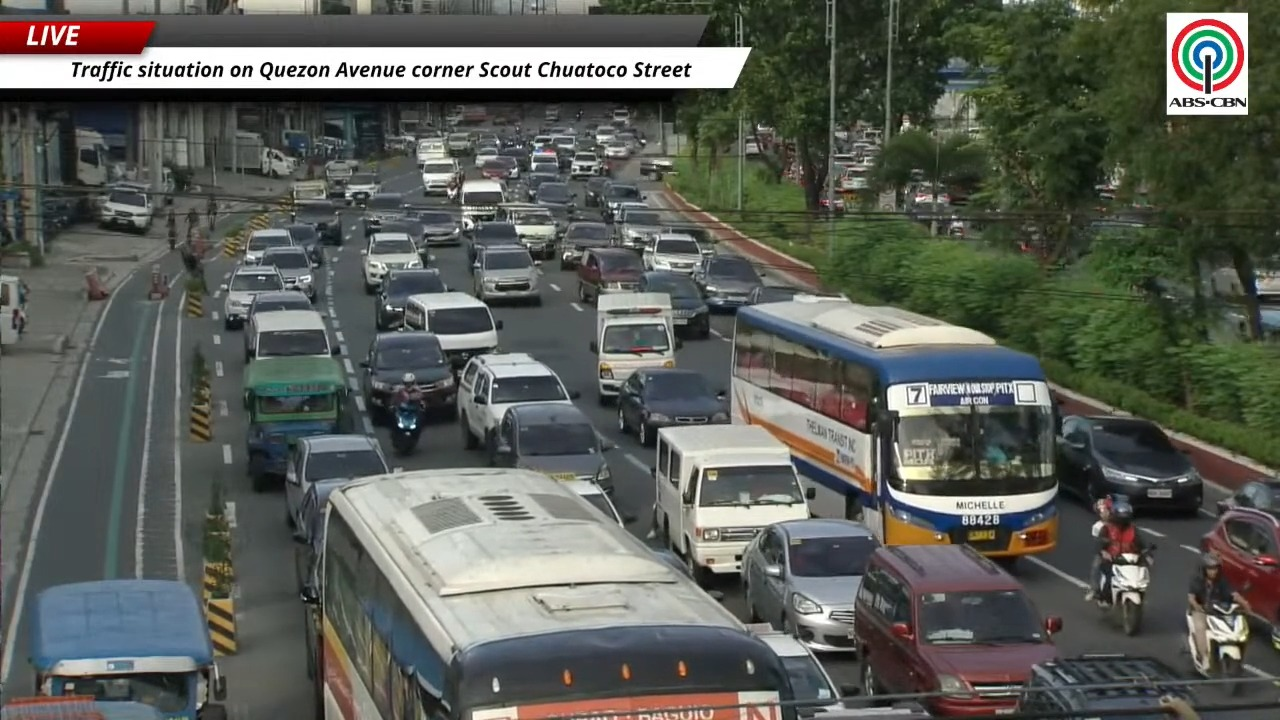bus: (306, 468, 795, 719), (731, 295, 1057, 558)
car: (854, 545, 1061, 716), (741, 518, 878, 651), (1057, 416, 1203, 513), (457, 353, 578, 452), (1016, 654, 1196, 717), (489, 402, 612, 492), (1200, 507, 1279, 645), (747, 624, 857, 716), (285, 434, 389, 526), (360, 331, 455, 423), (617, 368, 729, 446), (293, 478, 350, 591), (243, 290, 313, 357), (640, 271, 710, 338), (375, 268, 448, 331), (220, 265, 286, 331), (473, 247, 541, 304), (694, 255, 763, 310), (361, 233, 423, 294), (577, 247, 643, 303), (261, 246, 317, 302), (500, 205, 557, 259), (561, 480, 626, 525), (98, 183, 155, 233), (642, 231, 702, 274), (379, 218, 430, 266), (560, 221, 611, 269), (467, 222, 523, 265), (1216, 477, 1279, 514), (293, 200, 343, 245), (245, 290, 313, 323), (614, 207, 663, 252), (406, 209, 461, 245), (747, 285, 846, 304), (661, 222, 717, 255), (363, 192, 403, 236), (243, 229, 293, 264), (283, 222, 323, 265), (534, 183, 575, 224), (601, 182, 643, 219), (421, 157, 461, 195), (650, 547, 693, 579), (345, 172, 381, 205), (525, 168, 560, 201), (746, 285, 805, 304), (552, 129, 576, 169), (569, 152, 602, 178), (486, 154, 520, 179), (584, 176, 611, 207), (911, 184, 950, 205), (640, 157, 674, 180), (530, 148, 561, 173), (499, 145, 528, 171), (479, 159, 511, 181), (445, 132, 472, 156), (474, 146, 499, 169), (604, 140, 631, 159), (595, 125, 616, 145)
motorcycle: (1187, 601, 1249, 694), (1096, 546, 1152, 635), (392, 401, 422, 455)
truck: (29, 579, 225, 719), (589, 292, 680, 404), (0, 696, 165, 719), (225, 131, 297, 176), (75, 127, 111, 186), (325, 159, 358, 199), (291, 180, 328, 203), (281, 129, 311, 157)
